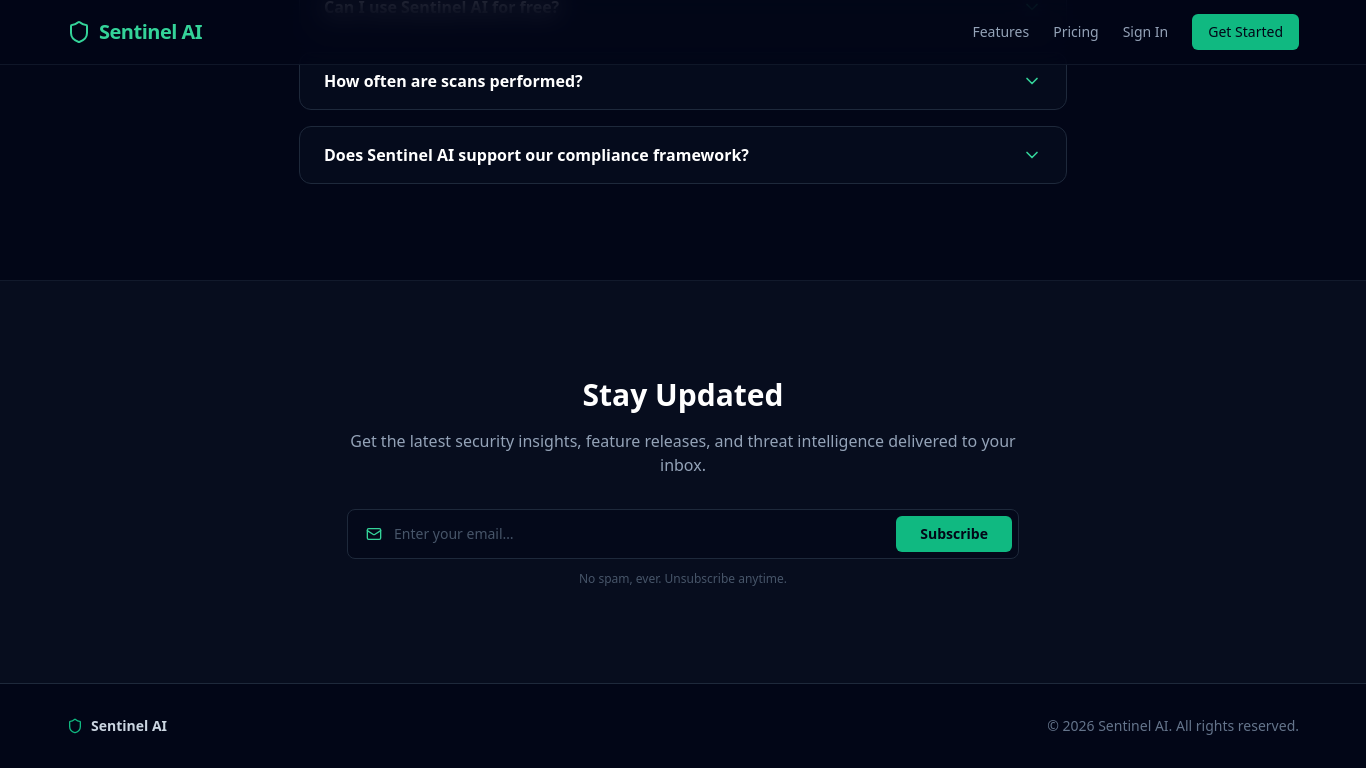
Test: Landing — handleSubscribe & FAQ › shows success message after valid email subscription
(page scrolled)
Type "test@example.com" into the field with placeholder "Enter your email…" at (639,534), box [394,524,884,544]
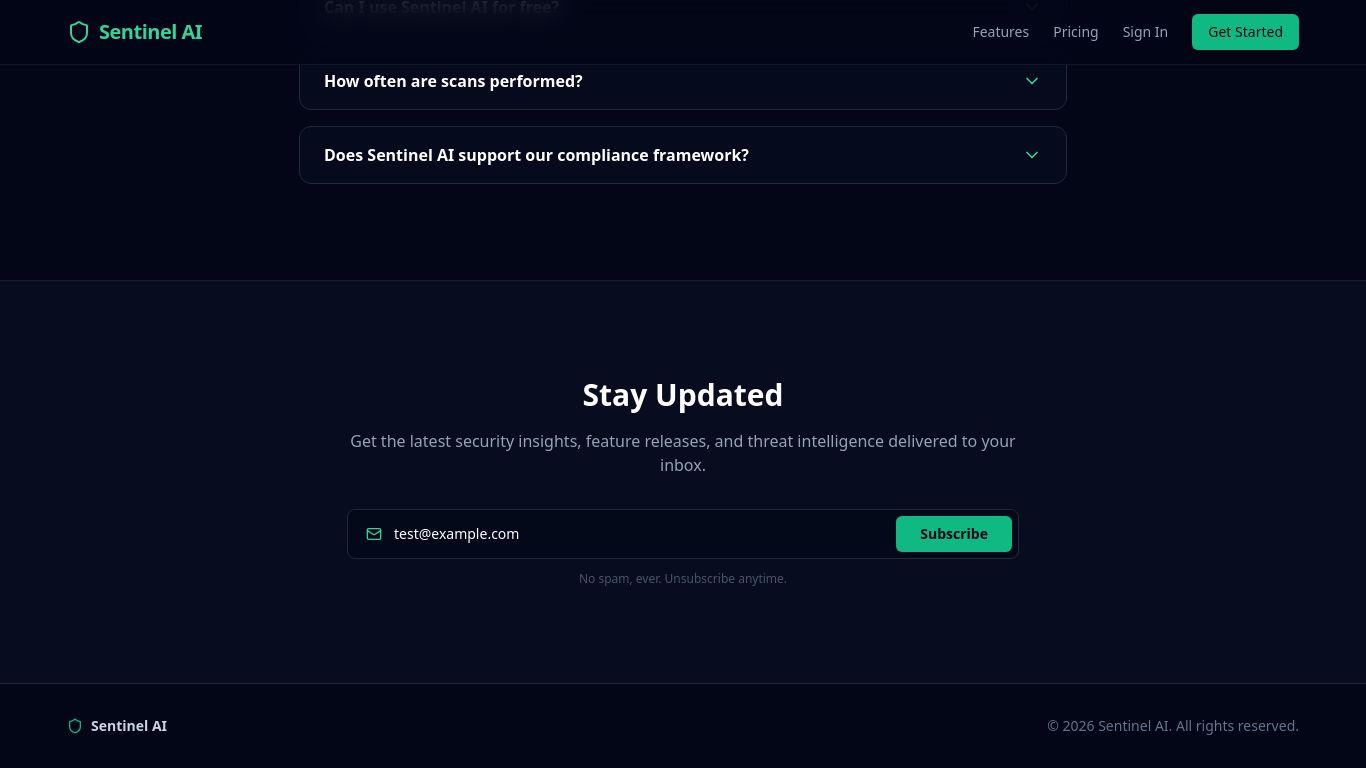
Submit the form with placeholder "enter your email", box [347,509,1019,559]
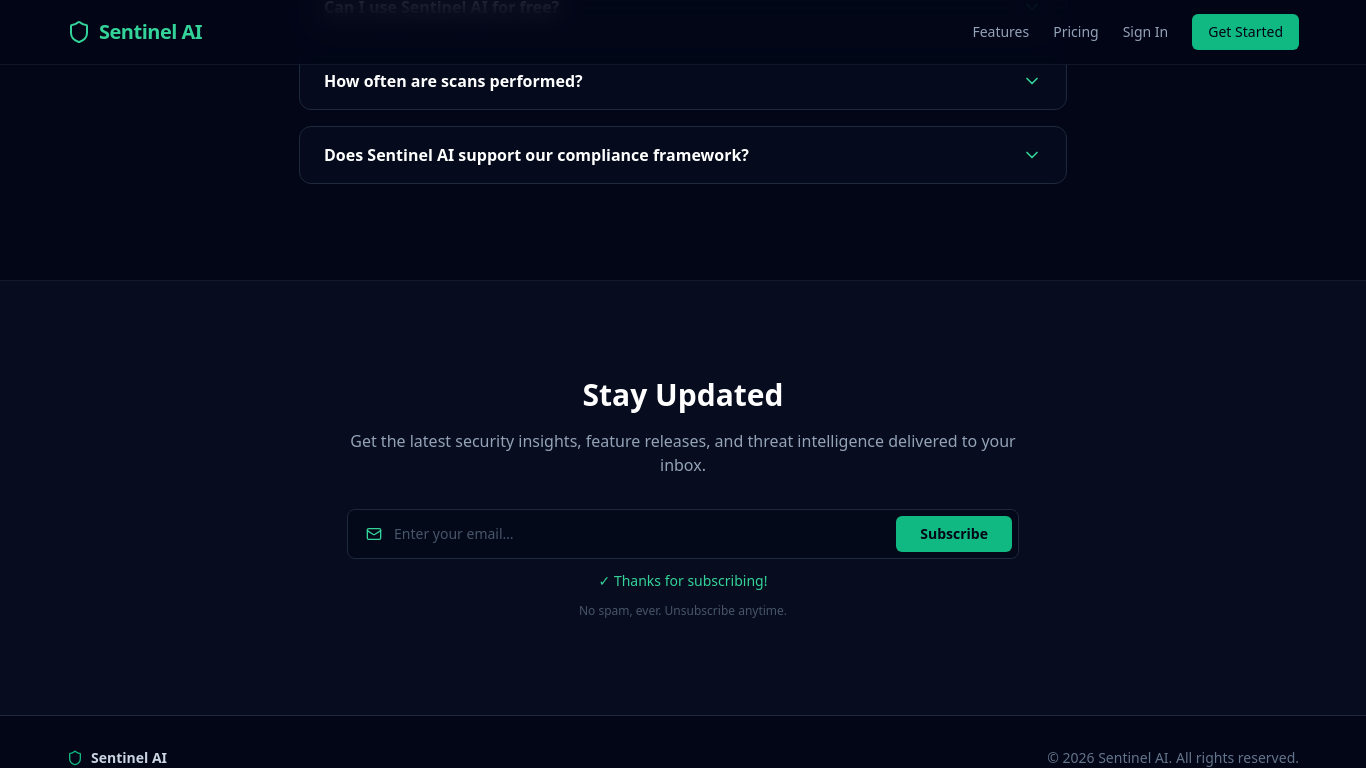
Check: the text "✓ Thanks for subscribing!" is shown, box [598,571,767,590]
